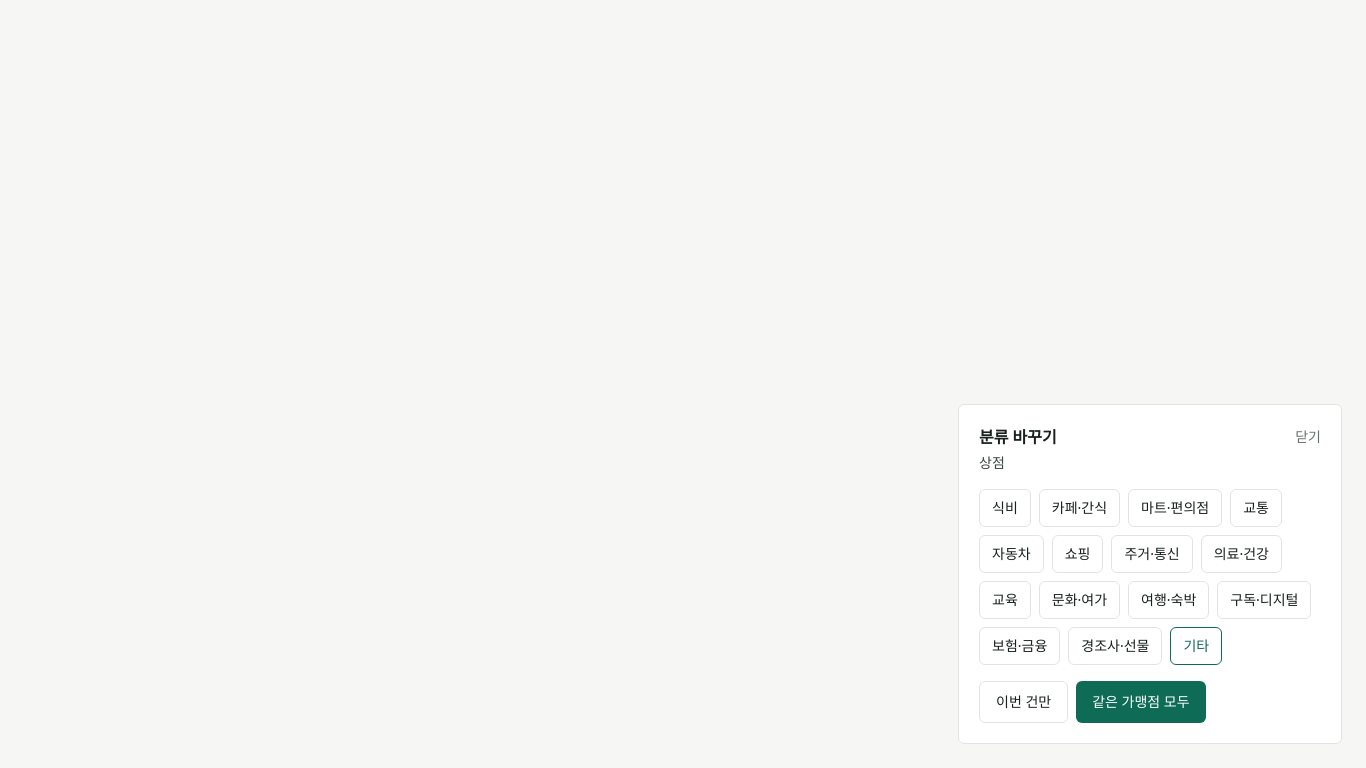
Test case: CategorySheet › sends 같은 가맹점 모두 scope
Click the button "식비" at (1005,508), box [979, 489, 1031, 527]
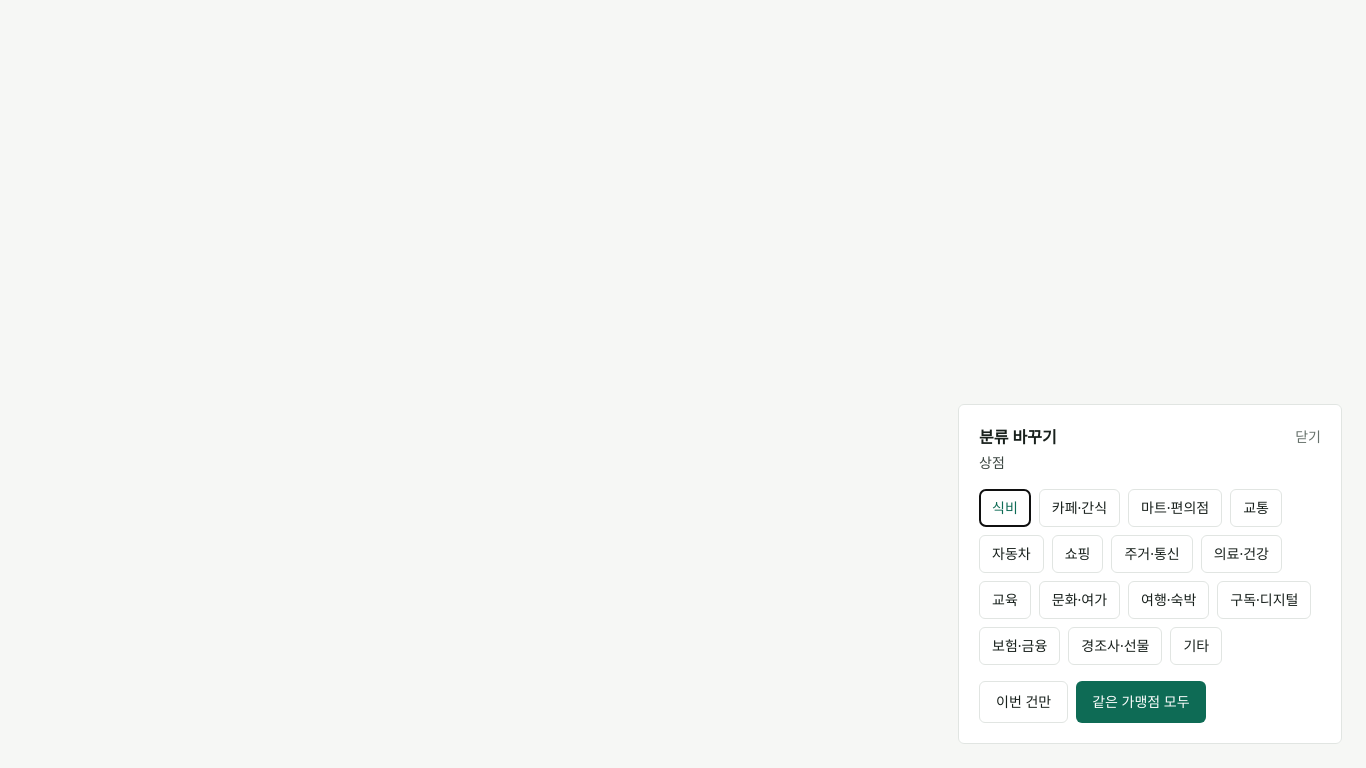
Click the button "같은 가맹점 모두" at (1141,702), box [1076, 681, 1206, 723]
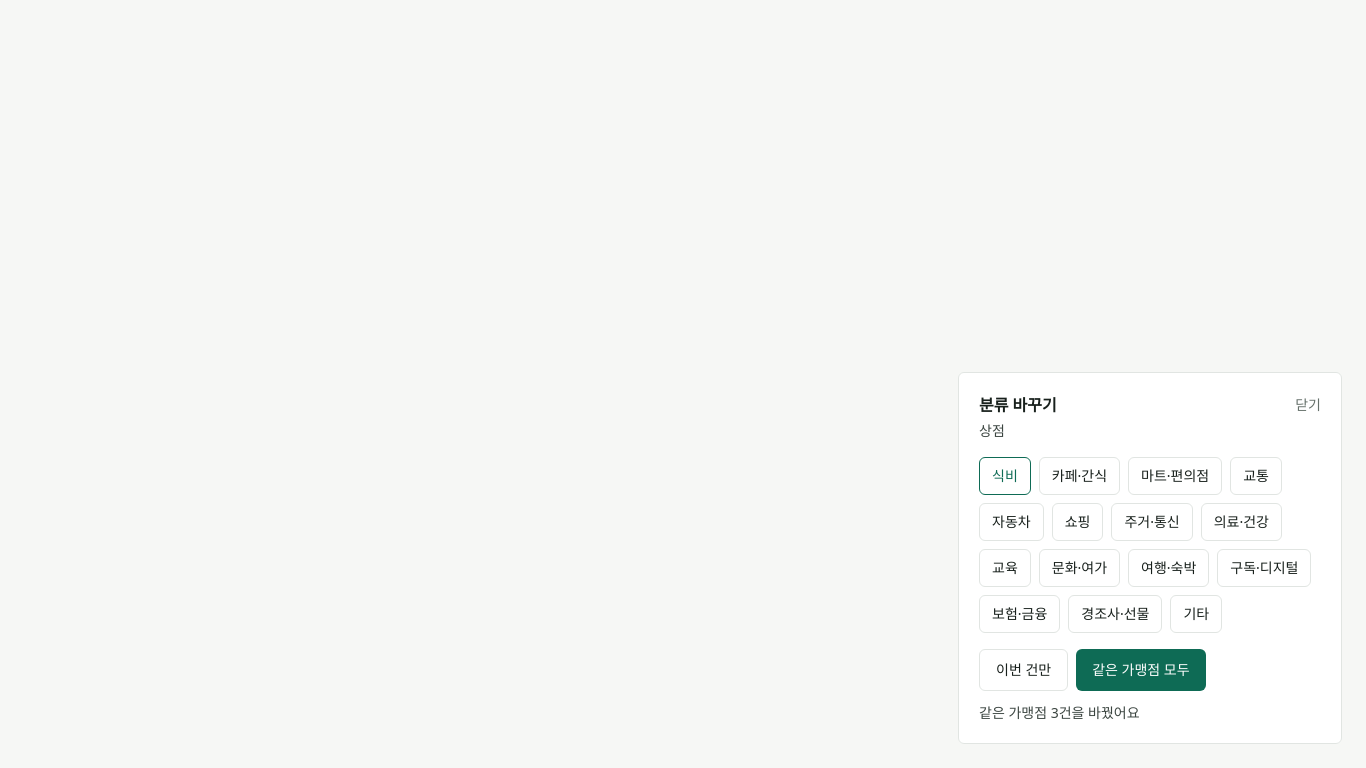
Result: the message reads "같은 가맹점 3건을 바꿨어요" at [979, 703, 1140, 722]
